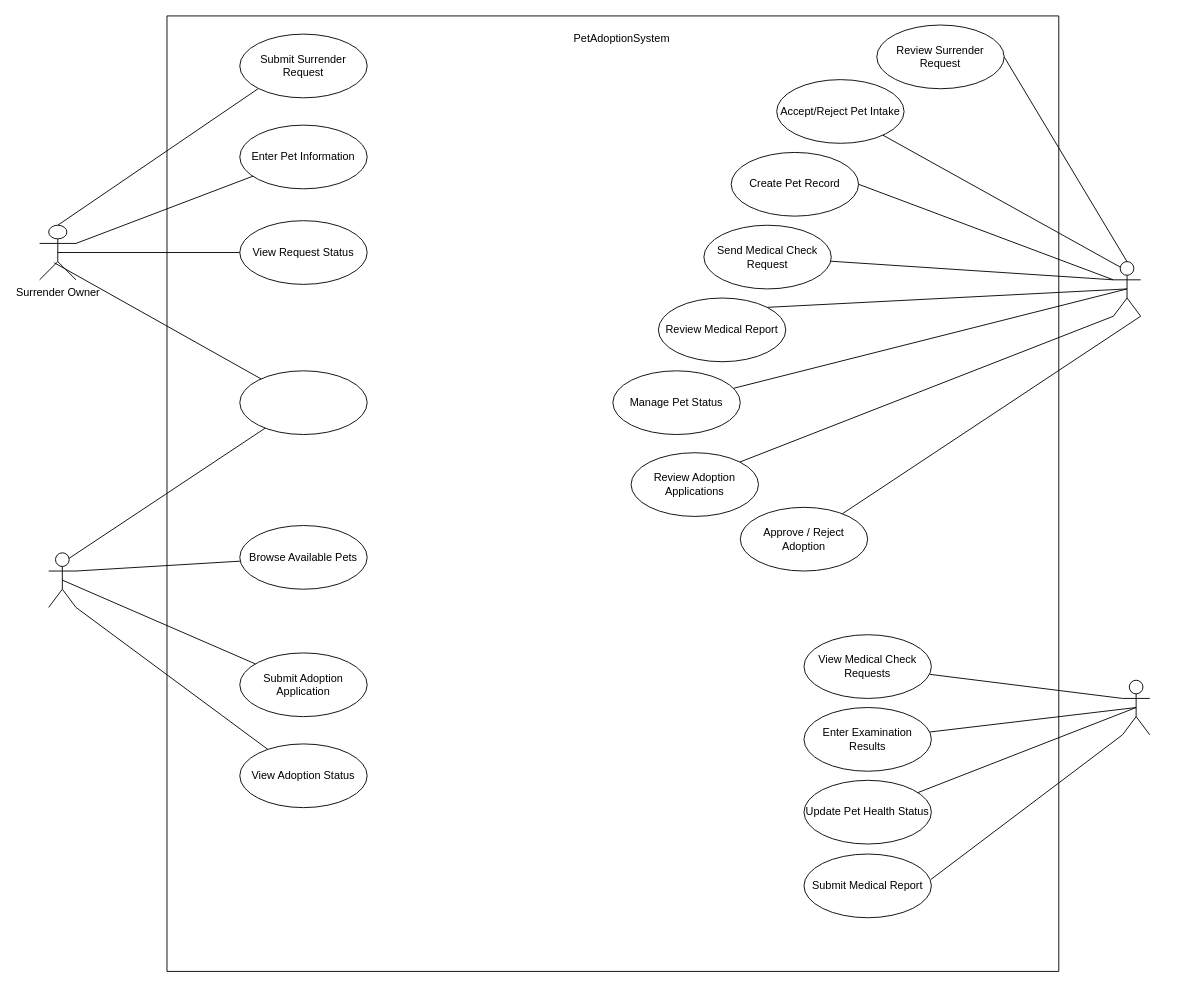
Some shapes in this 1177 by 987 pixel diagram are drawn without their labels. The shapes that lost their labels are listed below. From the top down, each one's box as (x1, y1, x2, y2) in pixels, then its label:
(1112, 261, 1141, 316): Shelter Admin
(239, 370, 367, 435): Register/Manage Profile
(48, 552, 76, 607): Adopter
(1122, 679, 1150, 735): Vet Staff
